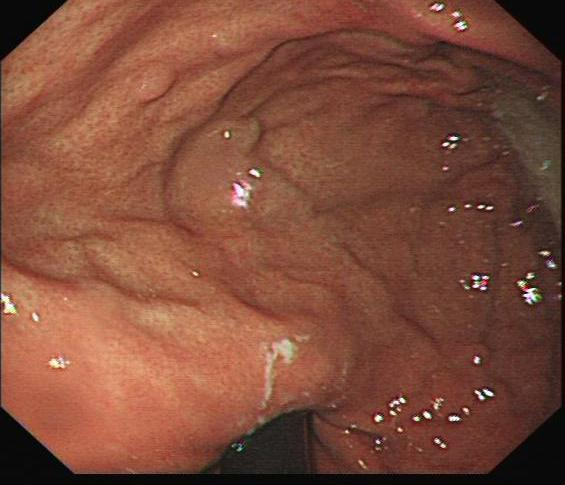Polyp: (125, 61, 178, 111)
